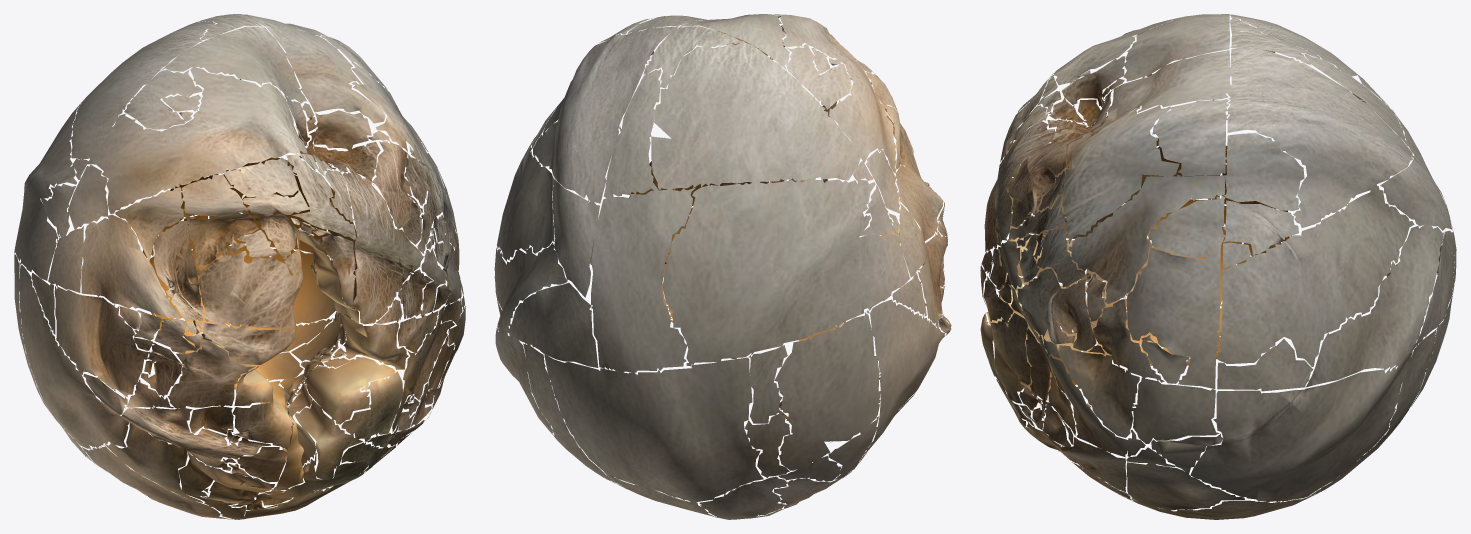
Rendered from fuzzy-egg-game.glb.
The picture shows the model from 3 angles, left to right: view 1: azimuth 30°, elevation 25°; view 2: azimuth 150°, elevation 25°; view 3: azimuth 270°, elevation 25°; orthographic projection. The views are drawn at different scales.
Visible parts, largest first — view 1: tripo_node_7fbc0607-ecbf-4ac5-ae5e-f92d94611e68; view 2: tripo_node_7fbc0607-ecbf-4ac5-ae5e-f92d94611e68; view 3: tripo_node_7fbc0607-ecbf-4ac5-ae5e-f92d94611e68.
Part boxes in pixels (x1,y1,x2,y2): tripo_node_7fbc0607-ecbf-4ac5-ae5e-f92d94611e68: (14,14,465,519); tripo_node_7fbc0607-ecbf-4ac5-ae5e-f92d94611e68: (494,14,951,519); tripo_node_7fbc0607-ecbf-4ac5-ae5e-f92d94611e68: (980,14,1456,519).
Bounding box in the file's own units: 0.8613 × 0.9799 × 0.8976.
1 material, 1 textured.
